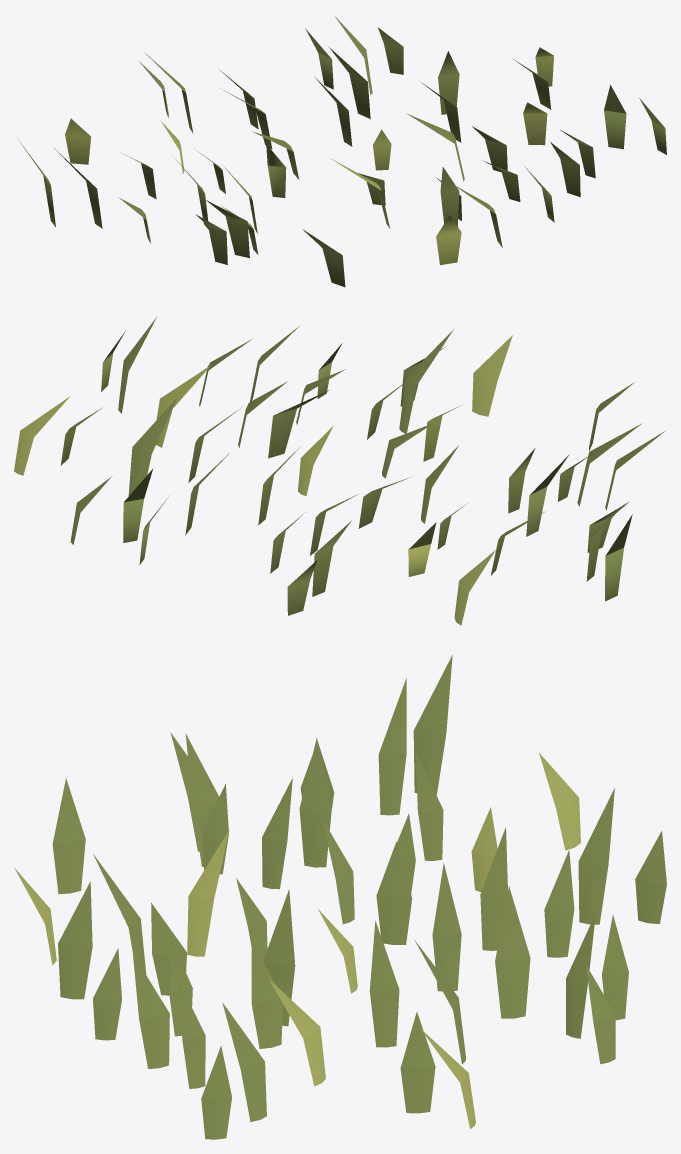
File: foliage_grass_c.glb
3 renders of one model, top to bottom at view 1: azimuth 30°, elevation 25°; view 2: azimuth 150°, elevation 25°; view 3: azimuth 270°, elevation 25°, orthographic. The views are drawn at different scales.
Visible parts, largest first — view 1: foliage_grass_c_LOD0; view 2: foliage_grass_c_LOD0; view 3: foliage_grass_c_LOD0.
Part boxes in pixels (x1,y1,x2,y2): foliage_grass_c_LOD0: (17,16,666,287); foliage_grass_c_LOD0: (14,317,664,625); foliage_grass_c_LOD0: (14,655,666,1139).
Size of what is drawn, in the model's own units: 1.56 by 0.2407 by 1.18.
